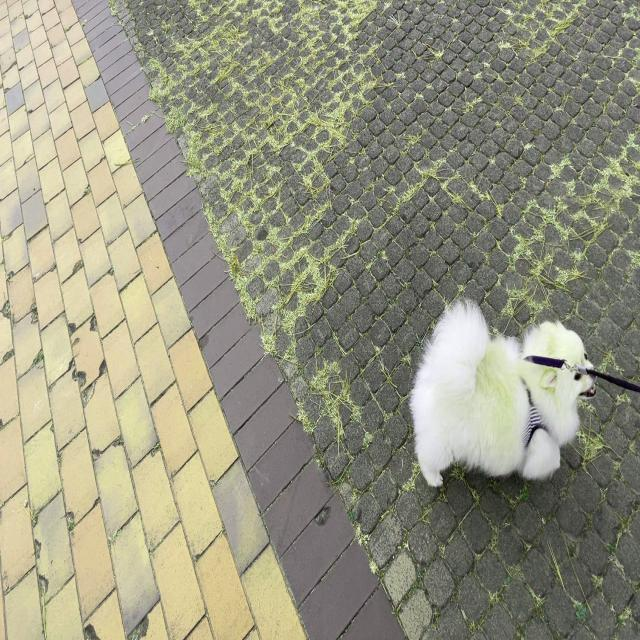Dog: (408, 301, 596, 487)
